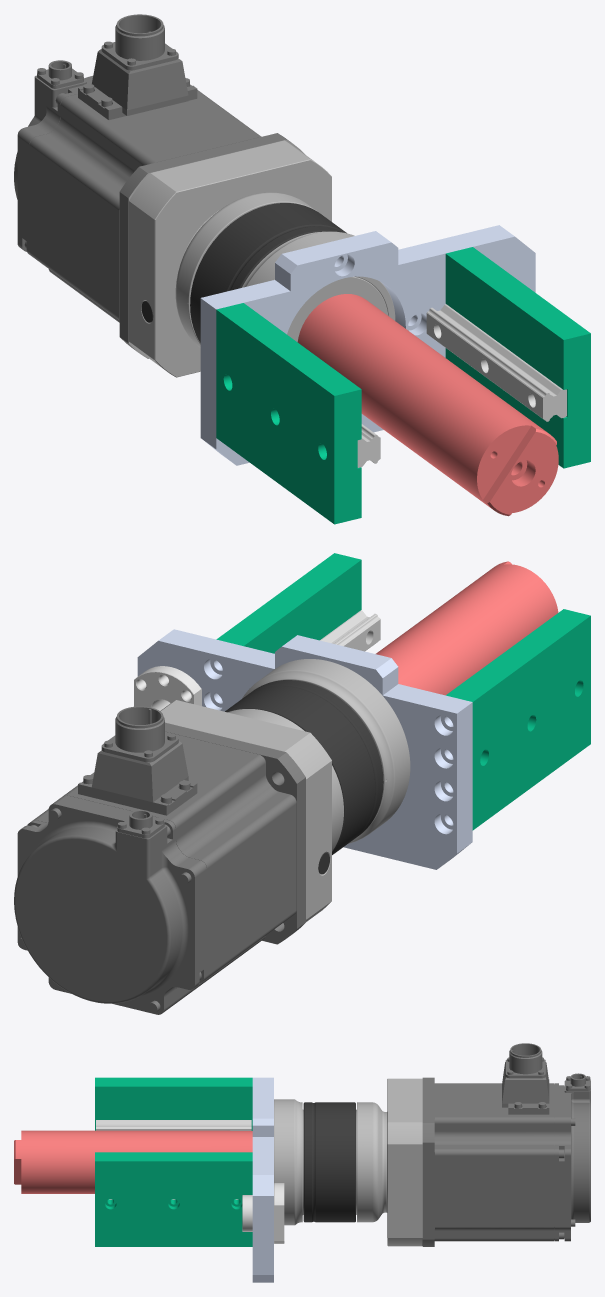
The model's file is PecaCimaBaixo.obj.
3 renders of one model, top to bottom at view 1: azimuth 30°, elevation 25°; view 2: azimuth 150°, elevation 25°; view 3: azimuth 270°, elevation 25°, orthographic. The views are drawn at different scales.
Visible parts, largest first — view 1: Corpo1, Corpo13, Corpo12, Corpo3, Corpo10, Corpo11, Corpo8, Corpo14, Corpo7, Corpo6, Corpo9, Corpo15; view 2: Corpo1, Corpo10, Corpo12, Corpo13, Corpo8, Corpo3, Corpo11, Corpo9, Corpo16, Corpo14, Corpo7; view 3: Corpo1, Corpo11, Corpo13, Corpo12, Corpo8, Corpo3, Corpo10, Corpo7, Corpo9, Corpo15, Corpo16.
Boxes of the visible parts, x1,y1,x2,y2 form: Corpo1: [14, 14, 305, 358]; Corpo13: [297, 294, 558, 516]; Corpo12: [216, 303, 361, 524]; Corpo3: [129, 140, 331, 377]; Corpo10: [200, 225, 535, 465]; Corpo11: [445, 247, 590, 468]; Corpo8: [190, 203, 346, 342]; Corpo14: [426, 304, 566, 421]; Corpo7: [175, 192, 317, 347]; Corpo6: [287, 276, 395, 341]; Corpo9: [241, 231, 395, 319]; Corpo15: [357, 424, 380, 467]; Corpo1: [14, 706, 305, 1014]; Corpo10: [137, 629, 472, 869]; Corpo12: [446, 609, 590, 830]; Corpo13: [376, 561, 558, 695]; Corpo8: [225, 680, 383, 854]; Corpo3: [160, 700, 331, 921]; Corpo11: [216, 553, 361, 653]; Corpo9: [242, 659, 410, 843]; Corpo16: [134, 666, 201, 710]; Corpo14: [320, 610, 380, 651]; Corpo7: [228, 709, 343, 851]; Corpo1: [422, 1043, 590, 1246]; Corpo11: [95, 1152, 252, 1246]; Corpo13: [14, 1130, 252, 1193]; Corpo12: [95, 1077, 252, 1130]; Corpo8: [303, 1102, 355, 1222]; Corpo3: [387, 1078, 422, 1246]; Corpo10: [252, 1077, 273, 1282]; Corpo7: [356, 1102, 386, 1222]; Corpo9: [274, 1099, 303, 1225]; Corpo15: [96, 1120, 251, 1130]; Corpo16: [242, 1183, 284, 1243].
Bounding box in the file's own units: 234 × 186 × 549.
